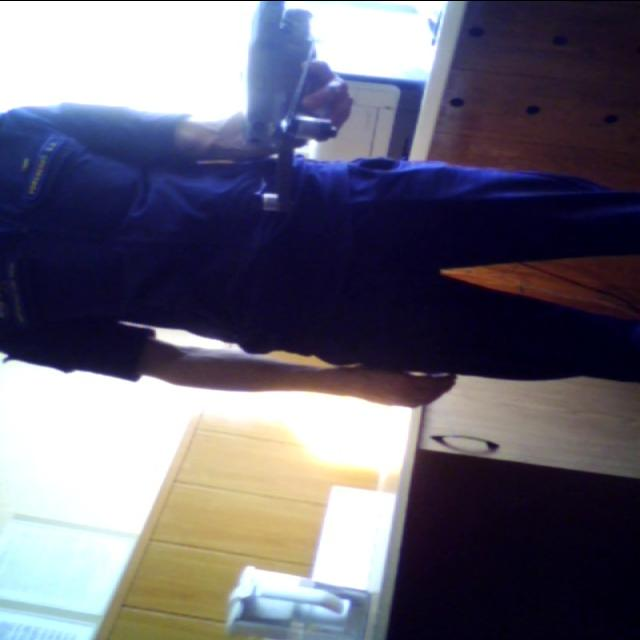drone: (201, 0, 351, 220)
